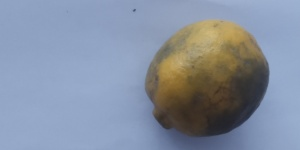BAD: (143, 19, 273, 138)
